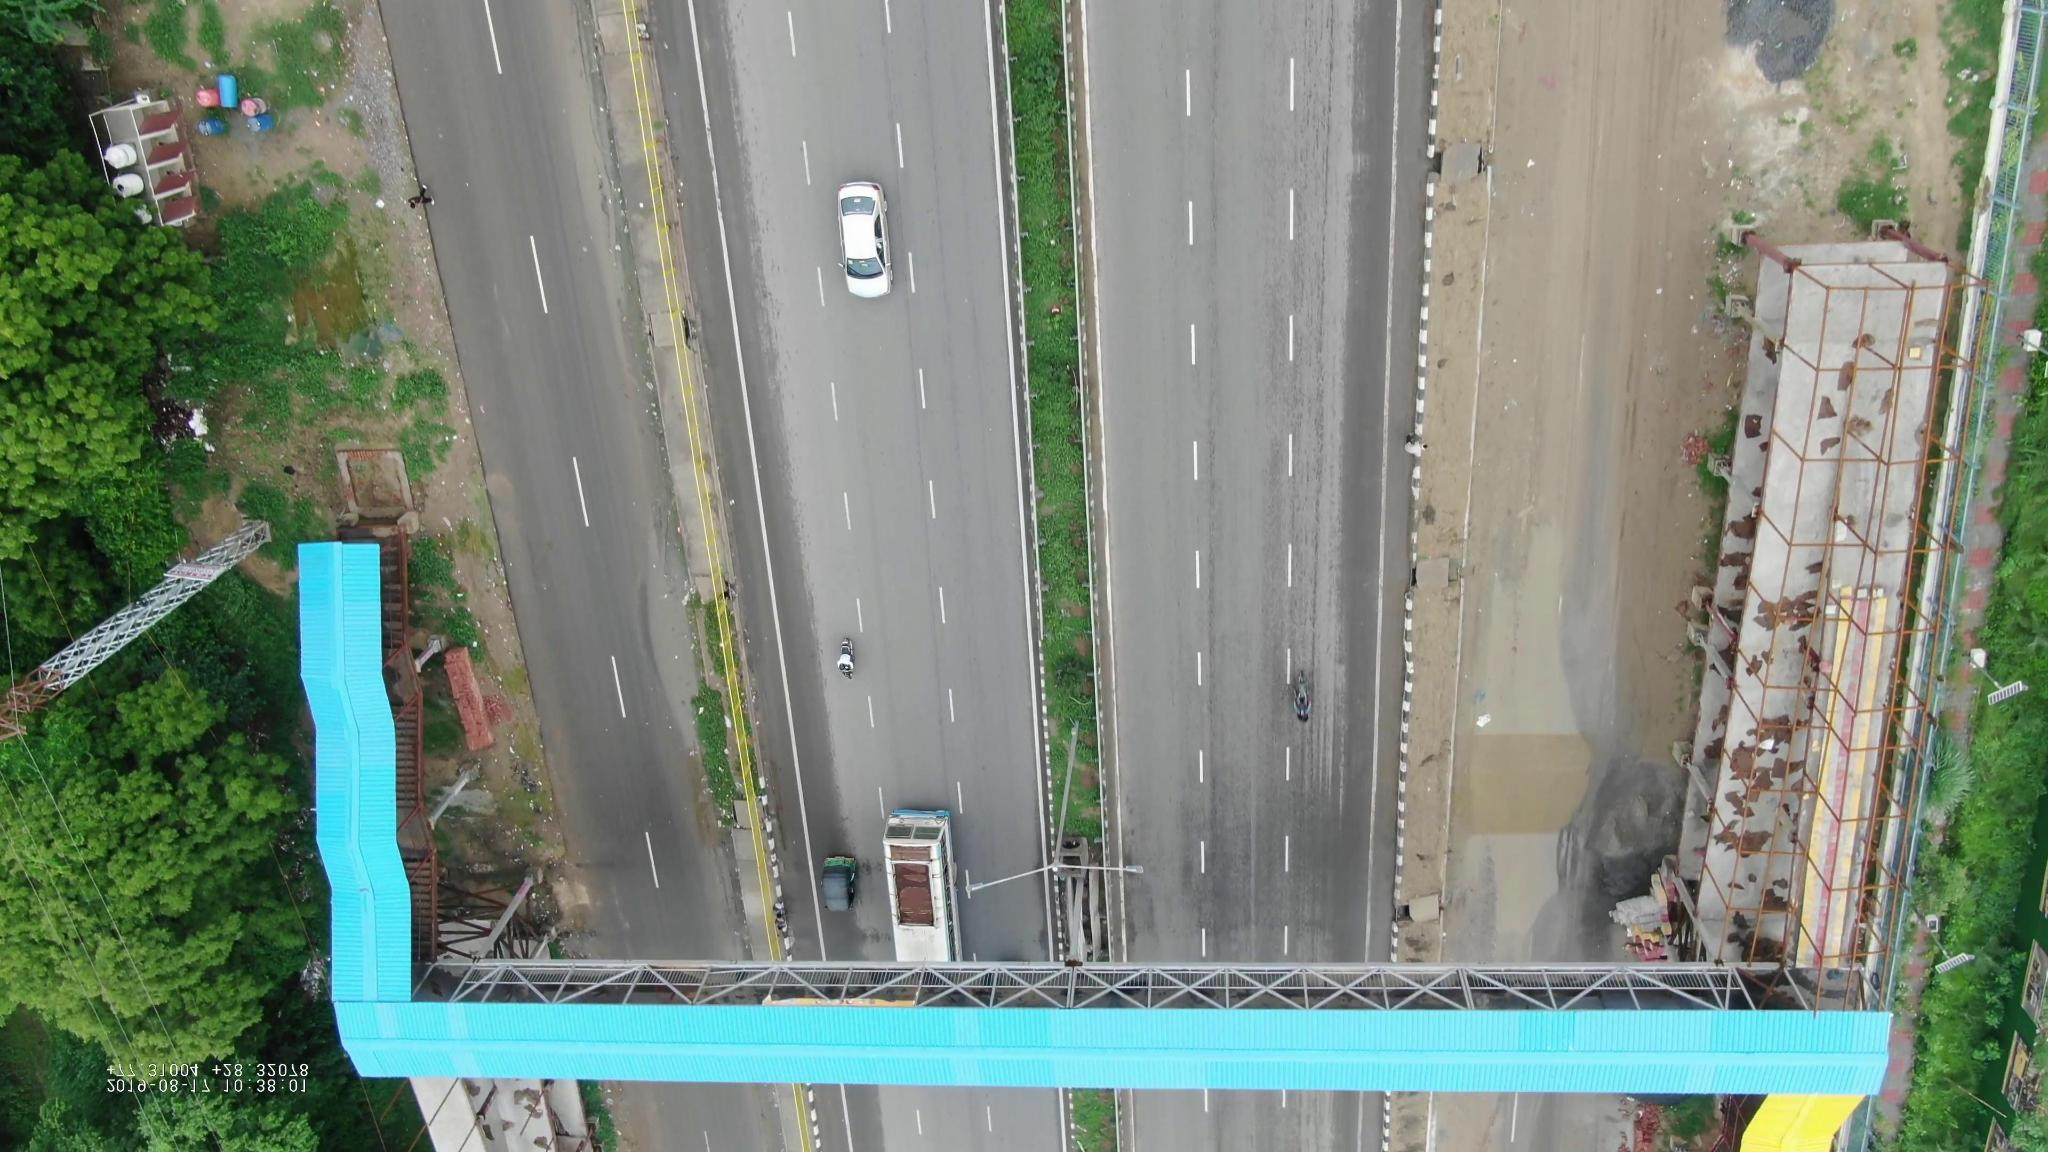Muddy_road: (1502, 34, 1575, 269), (1485, 295, 1566, 489)
Ravelling: (1263, 340, 1349, 627), (1277, 32, 1340, 314), (1175, 799, 1248, 951)
Waterlogging: (1461, 498, 1587, 948), (625, 544, 708, 755)
